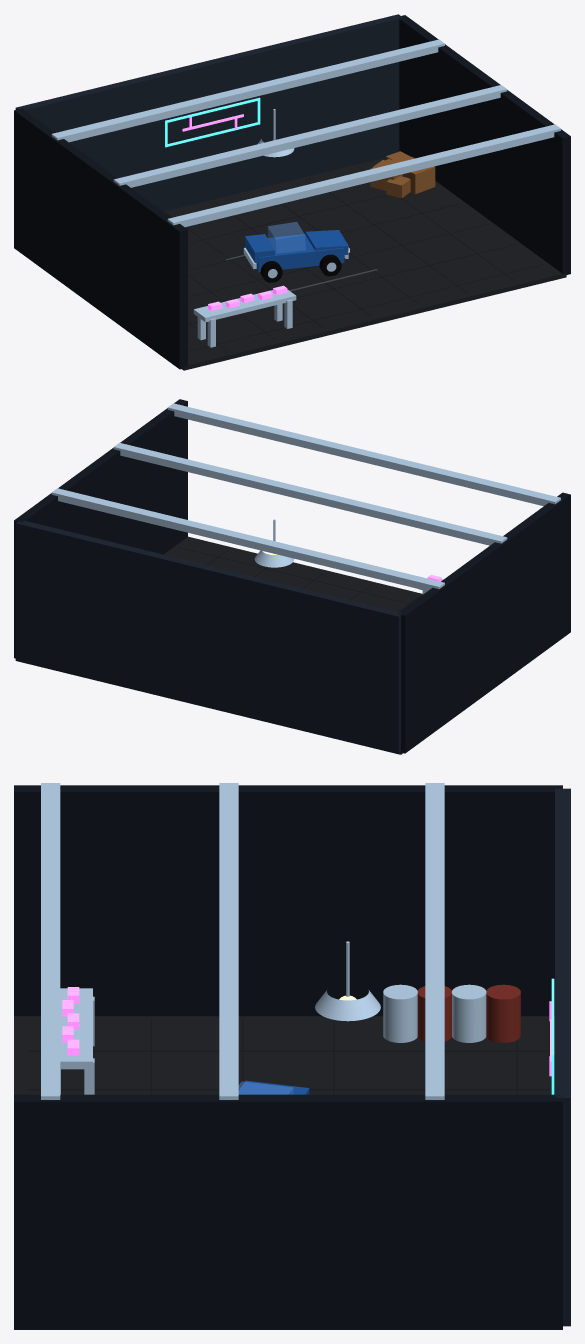
The model's file is glowing-garage-diorama-v1.glb.
The picture shows the model from 3 angles, top to bottom: view 1: azimuth 30°, elevation 25°; view 2: azimuth 150°, elevation 25°; view 3: azimuth 270°, elevation 25°; orthographic projection. The views are drawn at different scales.
Visible parts, largest first — view 1: Glowing Garage Diorama; view 2: Glowing Garage Diorama; view 3: Glowing Garage Diorama.
Part boxes in pixels (x1,y1,x2,y2): Glowing Garage Diorama: [14, 14, 570, 370]; Glowing Garage Diorama: [14, 399, 570, 754]; Glowing Garage Diorama: [14, 783, 570, 1329].
Bounding box in the file's own units: 16.35 × 5.68 × 12.17.
